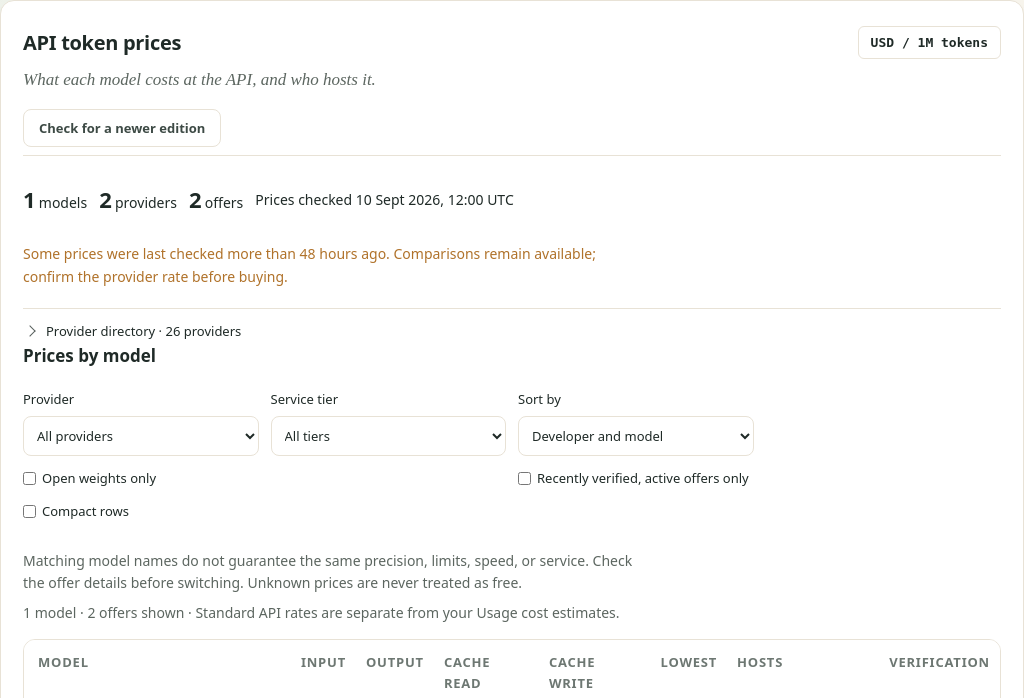
Scenario: filters provider and active quotes without presenting stale quotes as current
Expected: the text "2 offers shown" is shown, x1=23 y1=602 x2=648 y2=625
Select "Groq" in the dropdown labelled "Provider" at (141, 436), box x1=23 y1=416 x2=258 y2=456
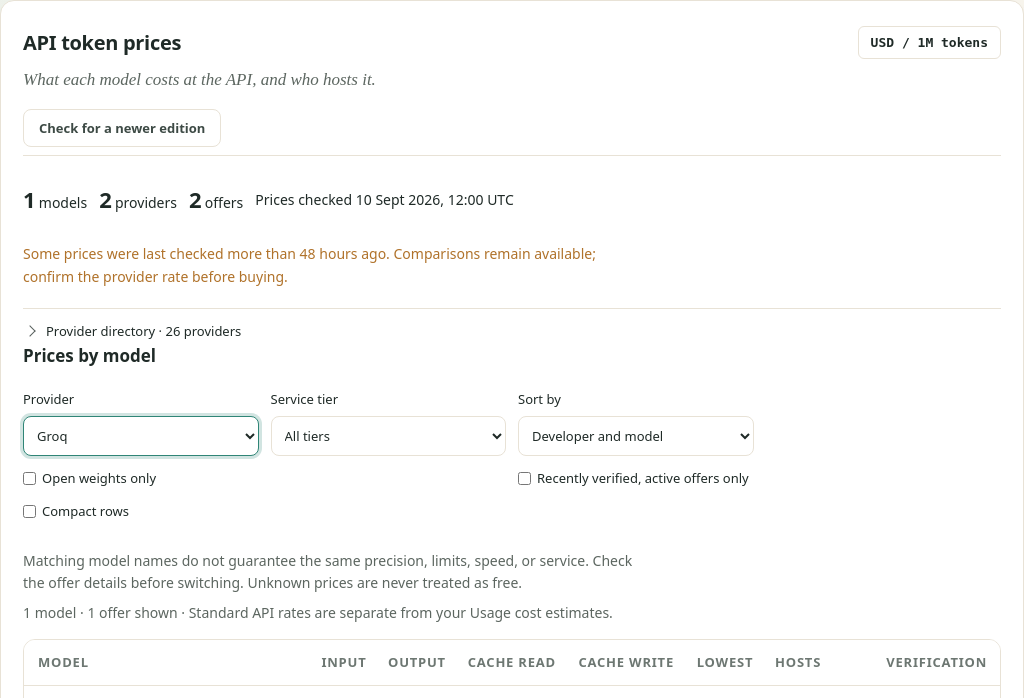
Expected: the text "1 model · 1 offer shown" is shown, x1=23 y1=602 x2=648 y2=625
Click the checkbox labelled "Recently verified, active offers only" at (524, 478), box x1=518 y1=472 x2=531 y2=485
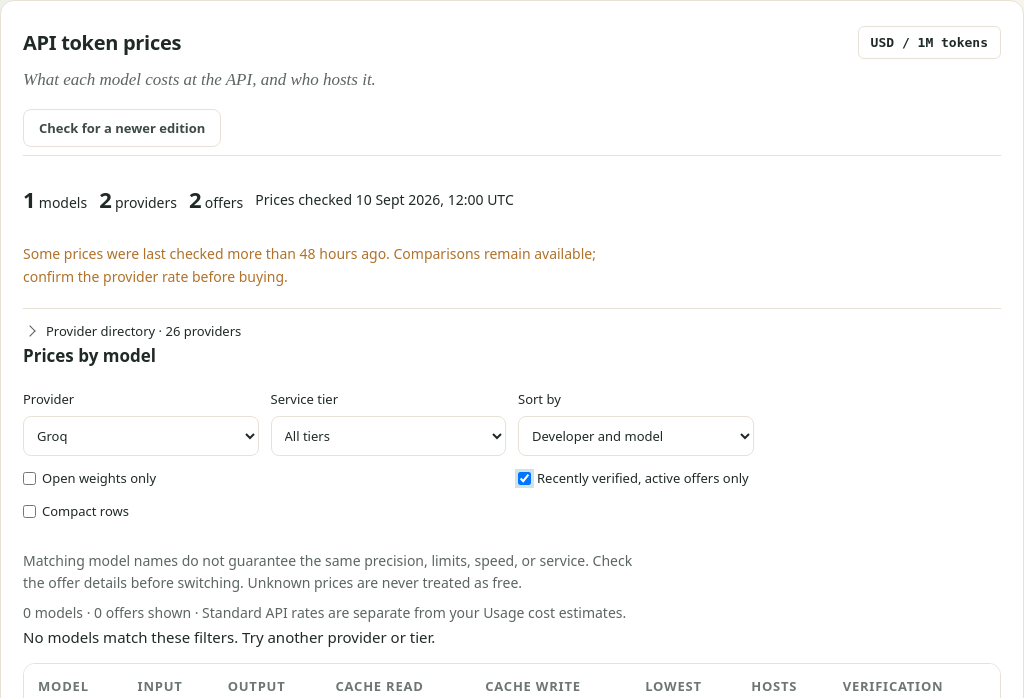
Expected: the text "No models match these filters. Try another provider or tier." is shown, x1=23 y1=627 x2=435 y2=647
